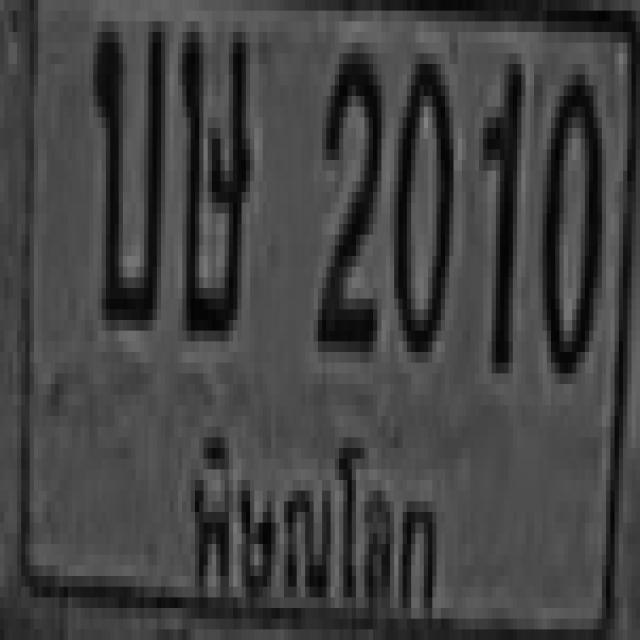0: (390, 43, 449, 352), (538, 69, 598, 368)
1: (481, 53, 519, 363)
2: (314, 43, 377, 341)
35BorBaiMai: (89, 11, 161, 320)
48SorRueSi: (178, 21, 246, 331)
Phitsanulok: (180, 408, 445, 640)
